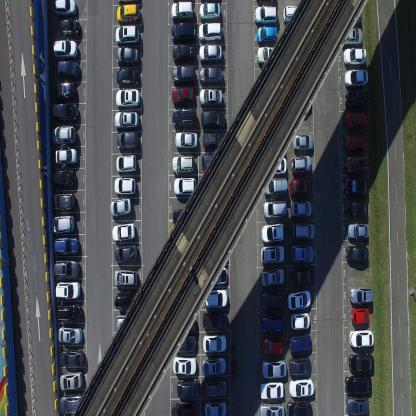car: (344, 373, 372, 396), (114, 86, 140, 108), (344, 109, 370, 131), (172, 206, 198, 228), (50, 102, 78, 122), (287, 288, 311, 311), (50, 124, 75, 146), (198, 42, 223, 64), (261, 222, 286, 244), (57, 326, 83, 347), (203, 288, 229, 309), (53, 260, 80, 280), (260, 358, 287, 378), (52, 192, 76, 214), (59, 371, 83, 393), (173, 176, 197, 198), (170, 0, 194, 22), (114, 25, 139, 46), (171, 43, 196, 64), (58, 395, 85, 414), (289, 333, 312, 355), (50, 215, 74, 236), (345, 87, 369, 108), (201, 152, 226, 172), (52, 38, 77, 58), (203, 310, 228, 330), (200, 109, 225, 129), (172, 108, 197, 128), (171, 22, 196, 42), (263, 176, 288, 196), (263, 199, 288, 219), (260, 244, 285, 264), (349, 328, 374, 348), (259, 380, 284, 400), (289, 378, 314, 398), (172, 355, 197, 375), (202, 332, 227, 352), (56, 305, 82, 324), (256, 46, 282, 65), (54, 283, 81, 301), (114, 292, 141, 310), (172, 63, 194, 85), (289, 176, 312, 197), (112, 222, 135, 243), (174, 130, 198, 150), (198, 22, 222, 42), (262, 313, 286, 333), (292, 266, 316, 286), (114, 244, 138, 264), (176, 378, 200, 398), (202, 355, 226, 375), (113, 110, 138, 129), (344, 177, 369, 196), (349, 352, 374, 371), (53, 237, 79, 255), (114, 175, 136, 196), (116, 130, 139, 150), (56, 60, 79, 80), (254, 4, 277, 24), (171, 86, 194, 106), (199, 65, 222, 85), (261, 290, 284, 310), (288, 356, 311, 376), (198, 1, 221, 21), (340, 27, 363, 47), (50, 82, 74, 101), (60, 350, 84, 369), (204, 266, 228, 285), (261, 268, 285, 287), (346, 396, 370, 415), (290, 244, 314, 263), (116, 313, 140, 332), (53, 148, 78, 166), (51, 170, 76, 188), (113, 269, 138, 287), (349, 286, 374, 304), (205, 378, 227, 398), (292, 221, 314, 241), (116, 67, 139, 86), (116, 46, 139, 65), (116, 5, 139, 24), (283, 5, 306, 24), (174, 314, 197, 333), (199, 87, 222, 106), (346, 155, 370, 173), (202, 131, 226, 149), (342, 47, 366, 65), (345, 244, 369, 262), (263, 156, 287, 174), (59, 17, 80, 37), (292, 153, 312, 174), (110, 198, 132, 217), (346, 199, 368, 218), (344, 134, 366, 153), (173, 335, 196, 353), (344, 68, 368, 85), (341, 6, 362, 25), (256, 25, 277, 44), (263, 336, 284, 355), (172, 154, 194, 172), (293, 132, 315, 150), (290, 200, 312, 218), (347, 222, 369, 240), (53, 0, 76, 17), (286, 400, 312, 415), (115, 154, 136, 172), (204, 400, 227, 416), (290, 312, 310, 330), (170, 402, 194, 416), (351, 306, 369, 324), (258, 403, 285, 415)
